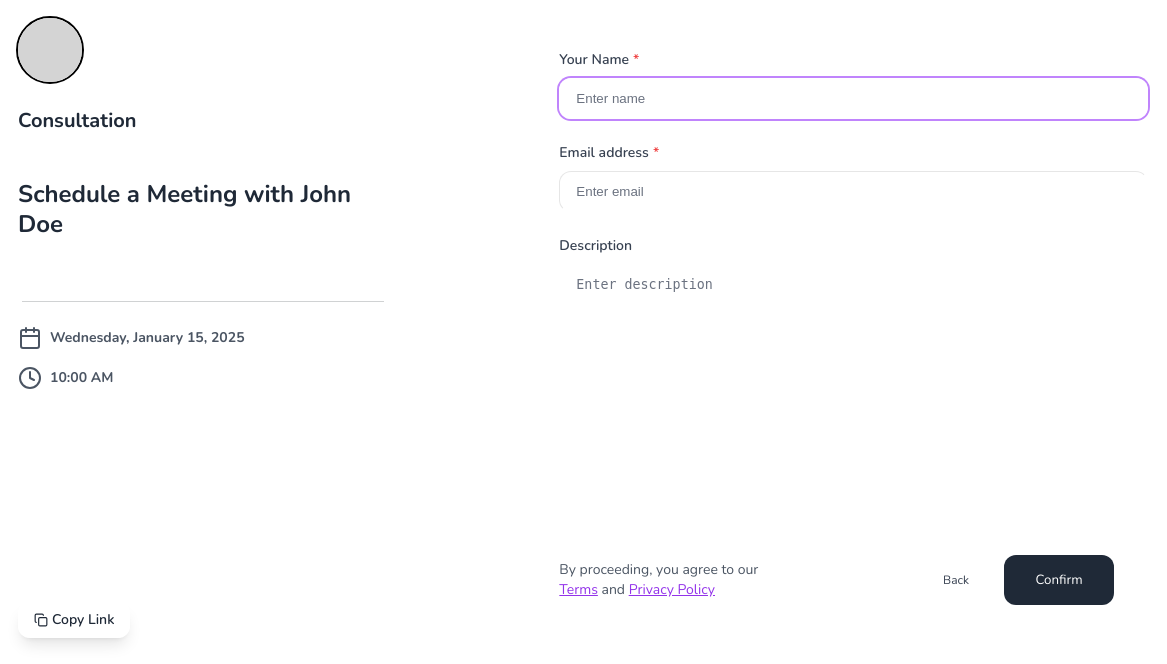
Test: BookingForm › should validate email format
Step 1. Type "invalid-email" into the field named "email address" → (854, 192), box [559,171,1148,212]
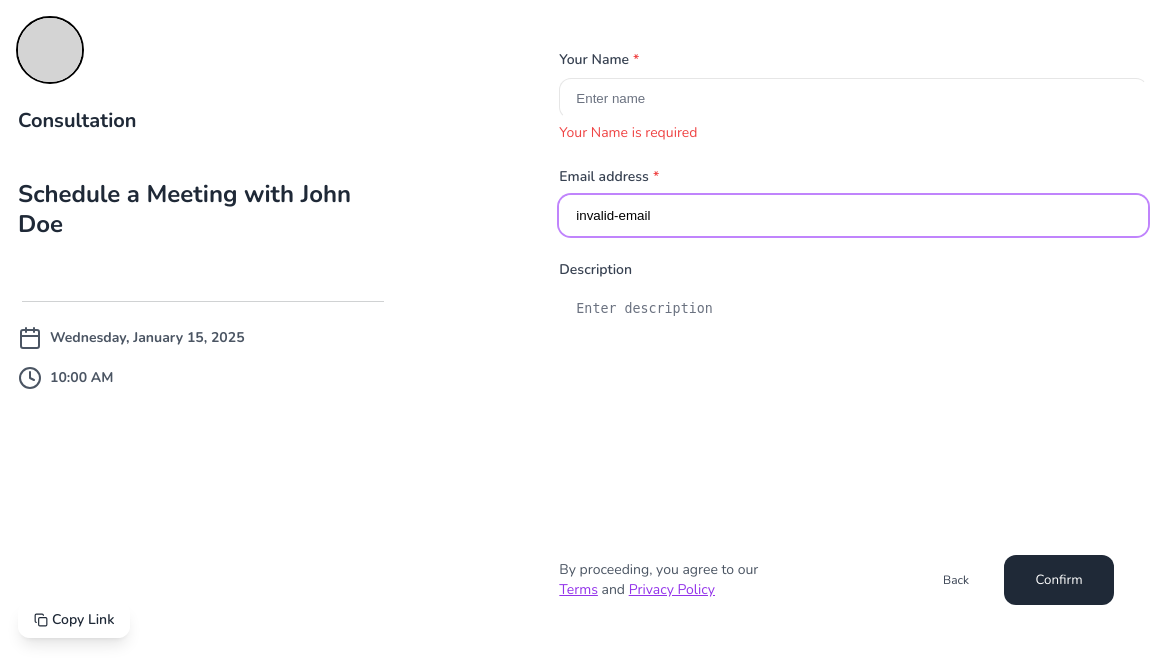
Step 2. Press Tab
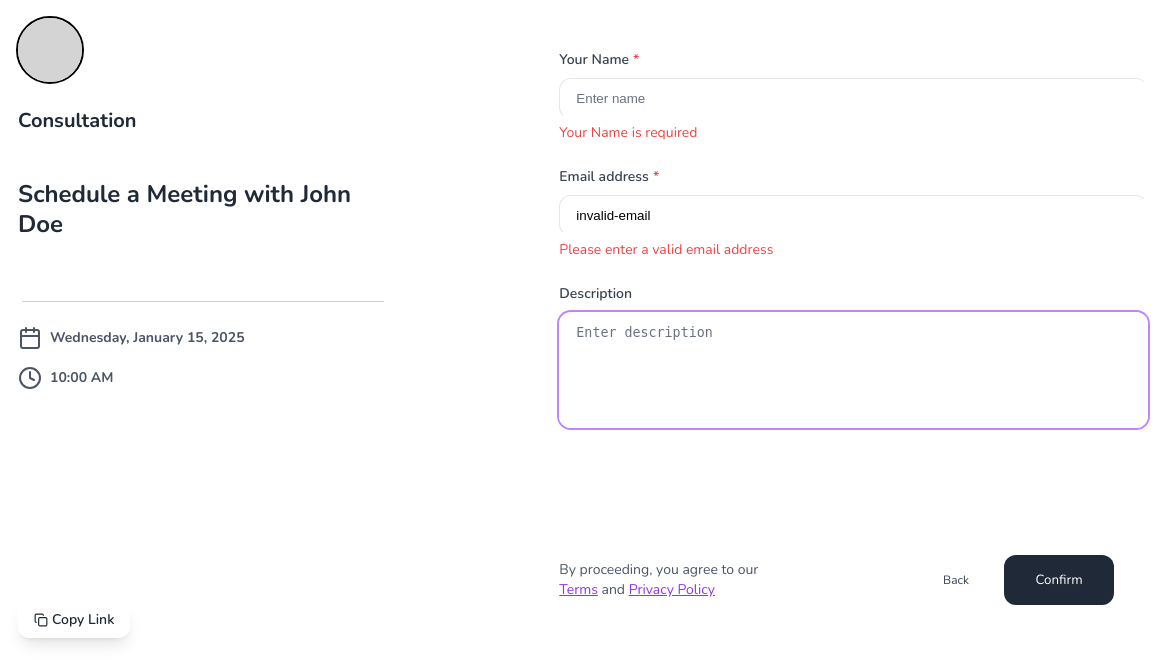
Now the text "Please enter a valid email address" is shown, box [559,240,773,259]
